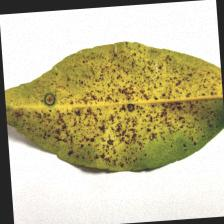canker: (39, 72, 174, 148)
